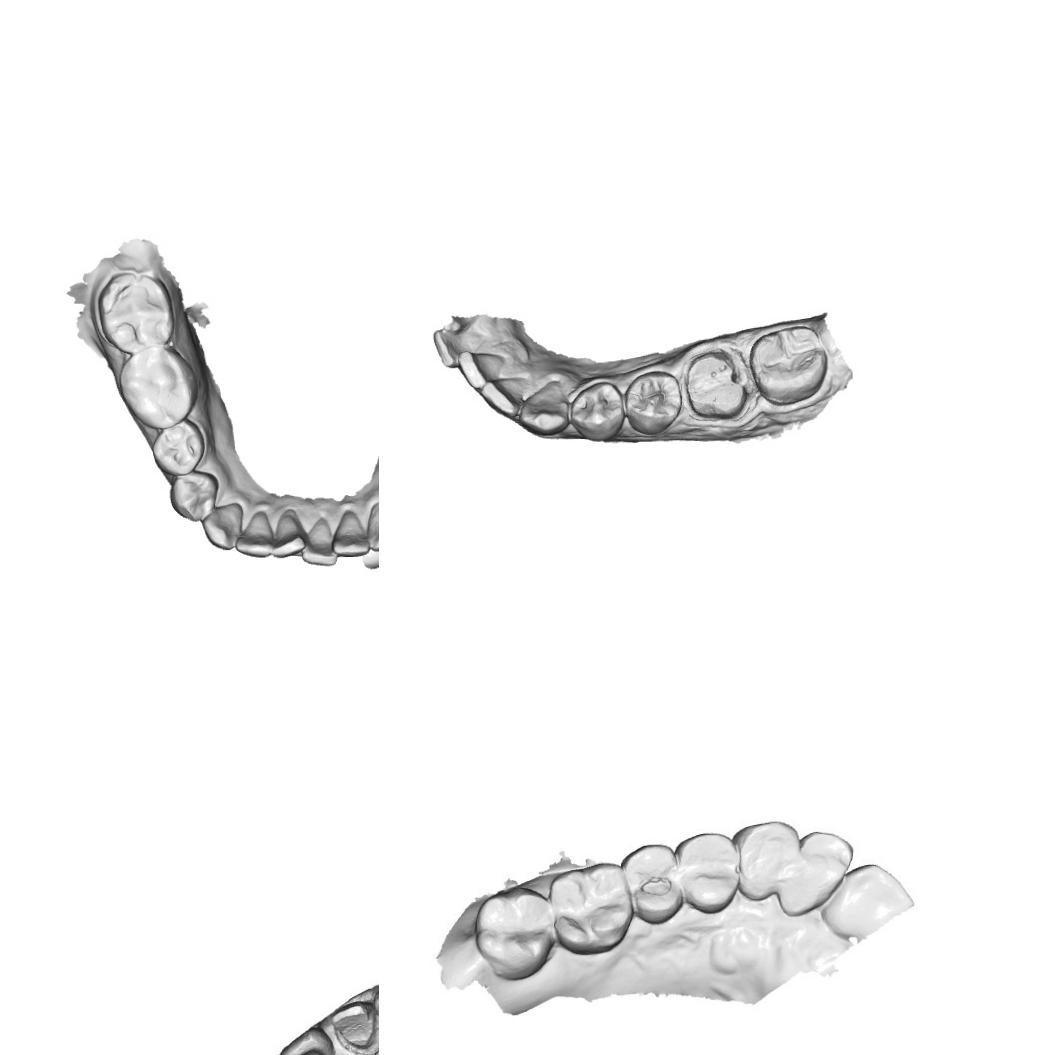canine: (734, 820, 801, 899), (518, 378, 572, 436), (198, 500, 248, 552), (364, 500, 379, 553)
crown: (682, 348, 752, 424), (327, 996, 379, 1055)
incisor: (790, 832, 852, 911), (232, 507, 278, 560), (264, 506, 310, 558), (300, 516, 340, 568), (331, 506, 370, 558), (478, 376, 526, 418), (456, 350, 504, 390), (432, 327, 478, 368), (280, 1028, 337, 1055)
molar: (474, 887, 558, 978), (94, 269, 178, 357), (116, 346, 201, 431), (551, 866, 635, 951), (747, 324, 830, 408)
premolar: (679, 832, 743, 907), (626, 844, 682, 917), (624, 368, 684, 436), (569, 380, 626, 442), (150, 418, 208, 478), (167, 469, 220, 522)
